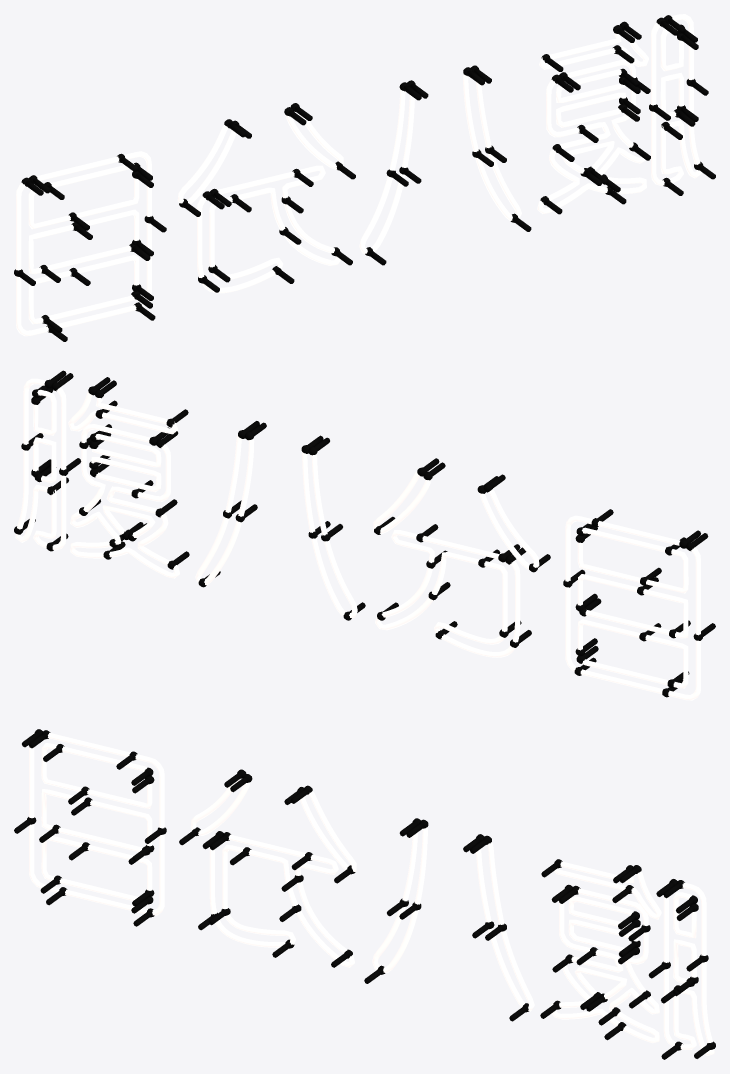
File: neon_harahatibunme.fbx
3 views of the same model, one above another, from view 1: azimuth 30°, elevation 25°; view 2: azimuth 150°, elevation 25°; view 3: azimuth 330°, elevation 25° (orthographic).
Visible parts, largest first — view 1: NeonEnglish; view 2: NeonEnglish; view 3: NeonEnglish.
Part boxes in pixels (x1,y1,x2,y2): NeonEnglish: [14, 14, 715, 341]; NeonEnglish: [14, 370, 715, 700]; NeonEnglish: [14, 729, 715, 1059].
Size of the model in its own units: 498 by 121 by 21.29.
